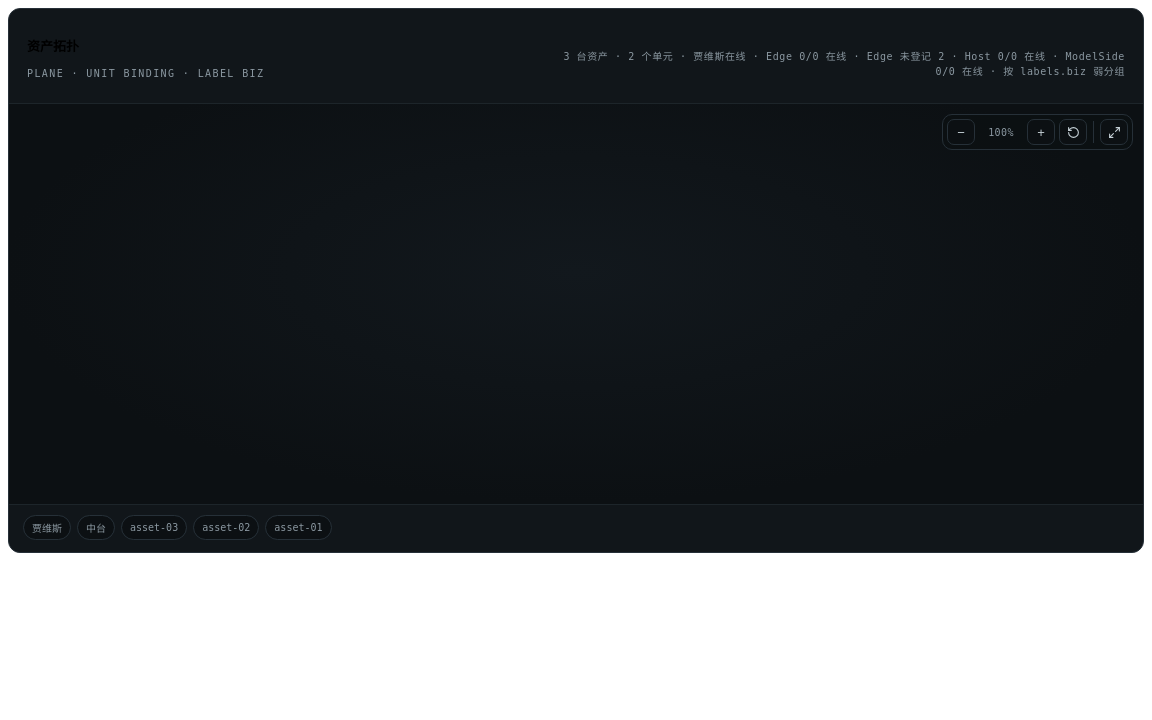
AssetEstateMap › 点选贾维斯说明只连中台，不把它画成资产
The image size is (1152, 720).
expect the text "贾维斯在线" is shown: met, box x1=673 y1=51 x2=746 y2=62
expect the text "Edge 0/0 在线" is shown: met, box x1=746 y1=51 x2=847 y2=62
What coordinates should you click on to do the following:
click the button with aria-label "选中贾维斯"
I would click on:
 (47, 528)
Its box is x1=23 y1=515 x2=71 y2=540.
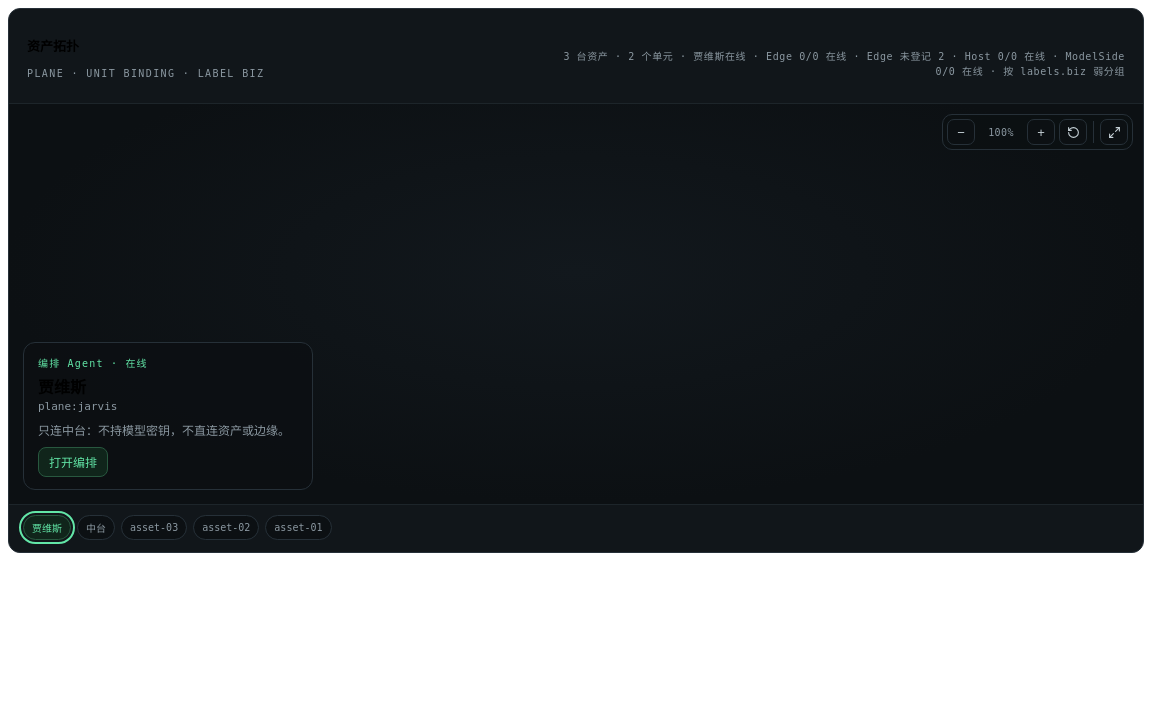
expect the element named "选中岗位" is shown: met, box x1=23 y1=342 x2=313 y2=490
expect the text "只连中台：不持模型密钥，不直连资产或边缘。" is shown: met, box x1=38 y1=421 x2=298 y2=439
